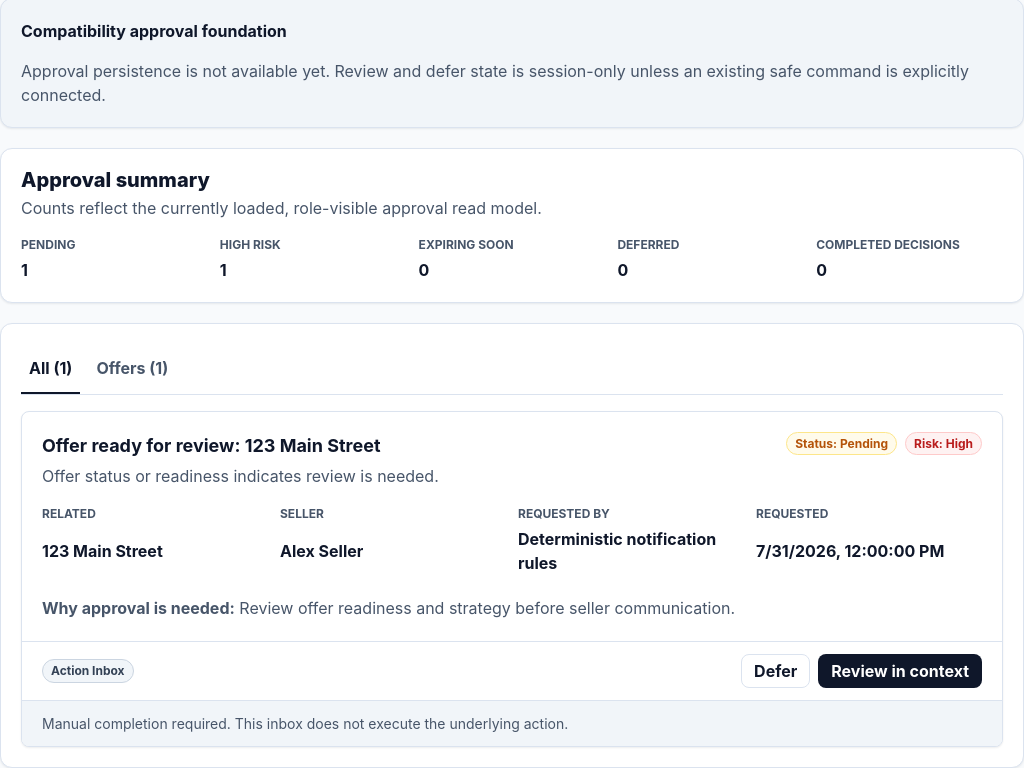
Test case: ApprovalInboxWorkspace › defers an item only in session using a future interval
(page scrolled)
Click the button "Defer".
click(776, 671)  # box [741,654,810,688]
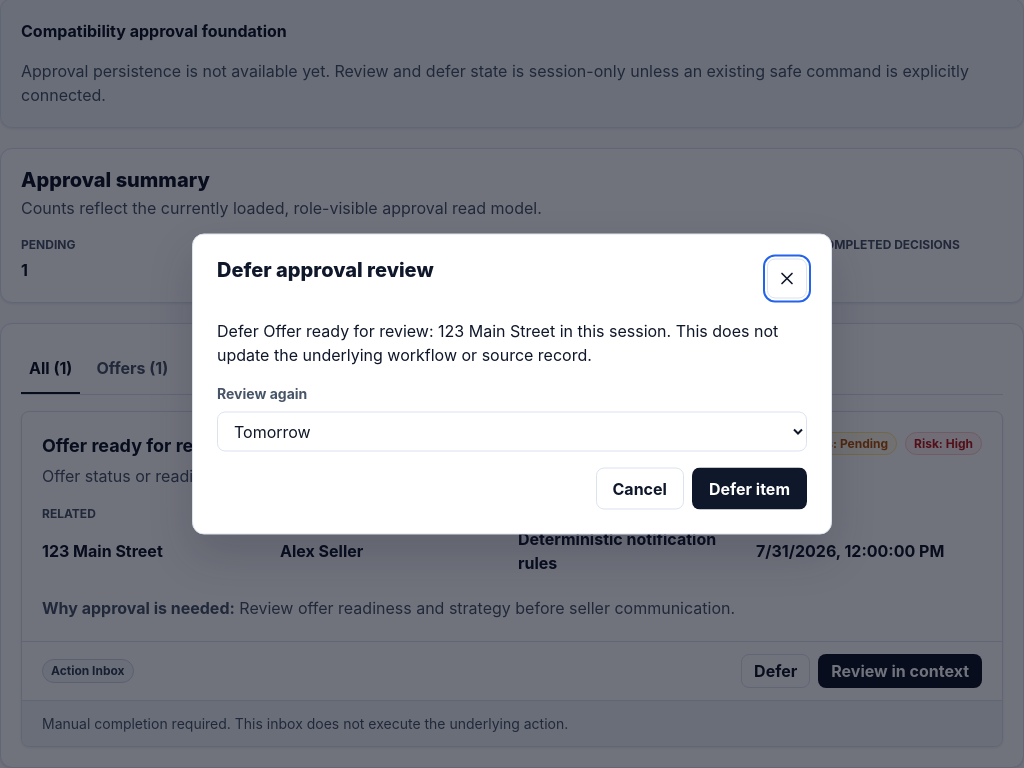
expect the heading "Defer approval review" is shown: met, box [217,258,434,282]
Select "In 3 days" in the dropdown labelled "Review again" at (512,432), box [217,412,807,452]
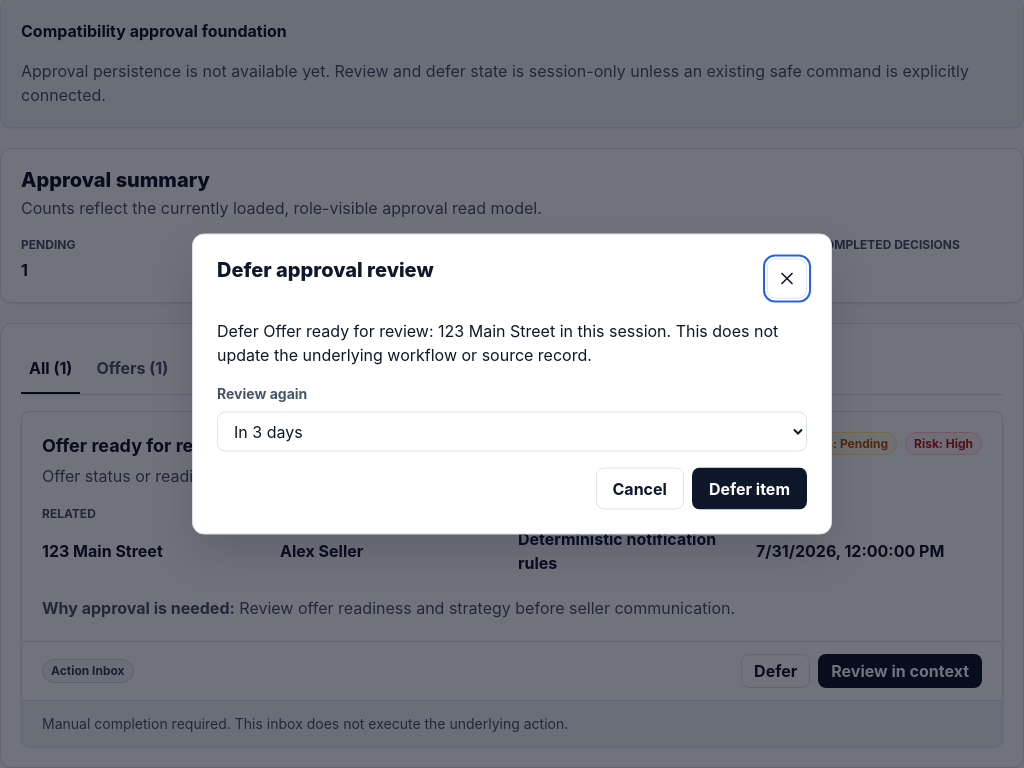
Click the button "Defer item".
click(749, 488)  # box [692,468,807,510]
(page scrolled)
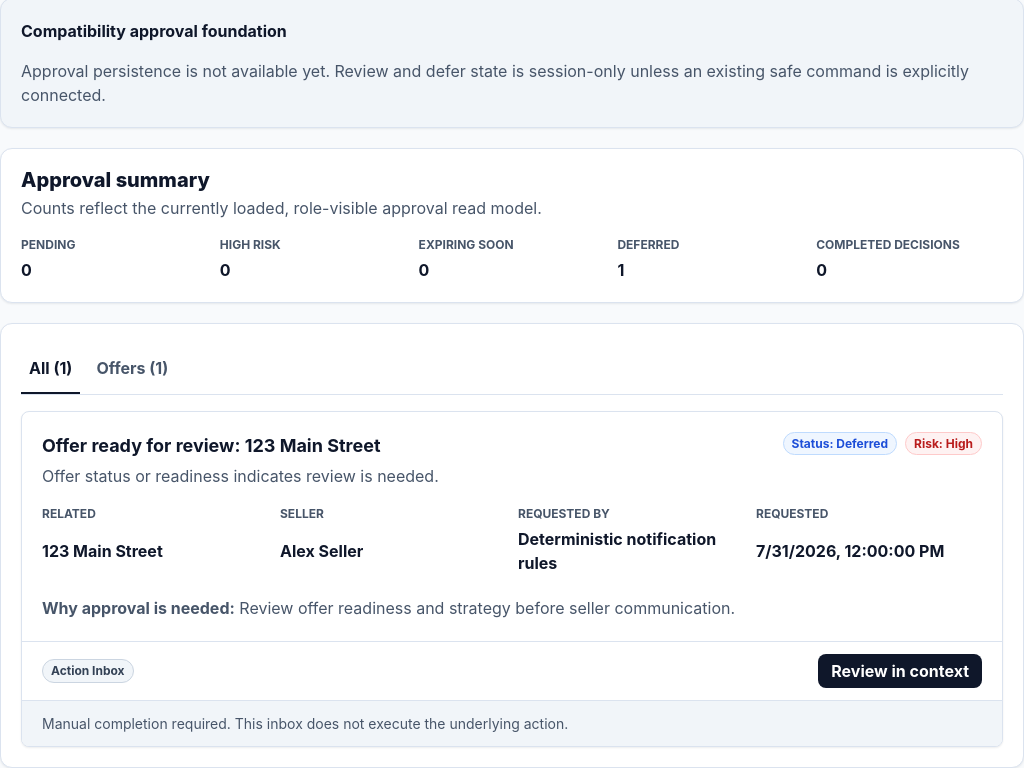
expect the text "Status: Deferred" is shown: met, box [783,432,897,455]
